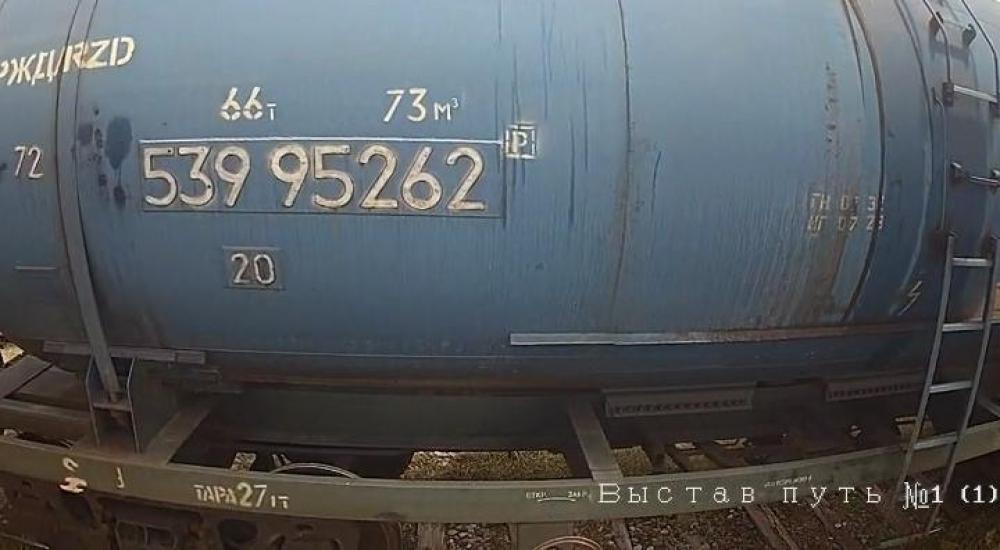Wagon-number: (140, 138, 496, 218)
